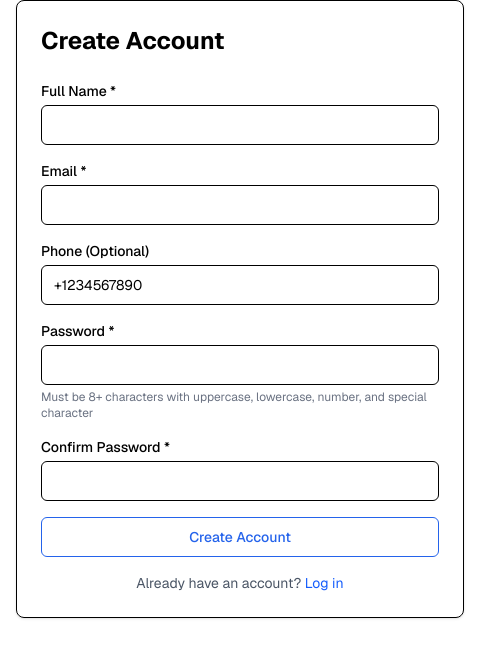
Test: RegisterForm › Form Validation - Required Fields › shows error when password is missing
The width and height of the screenshot is (481, 660).
Type "John Doe" into the field labelled "Full Name *". click: coordinates (240, 125)
box: x1=41 y1=105 x2=439 y2=145
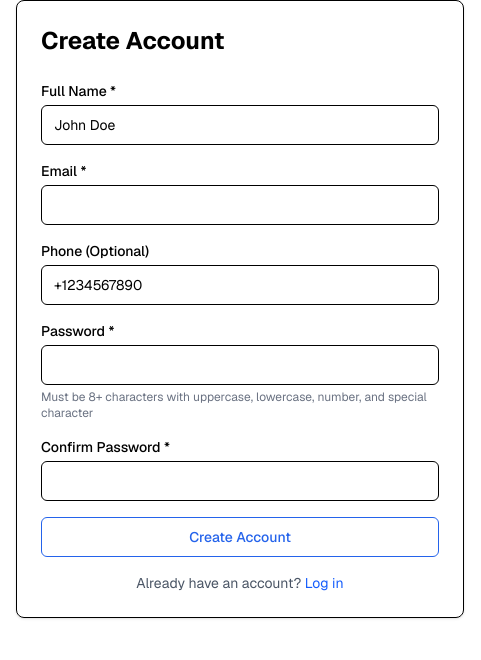
Type "test@example.com" into the field labelled "Email *". click: coordinates (240, 205)
box: x1=41 y1=185 x2=439 y2=225
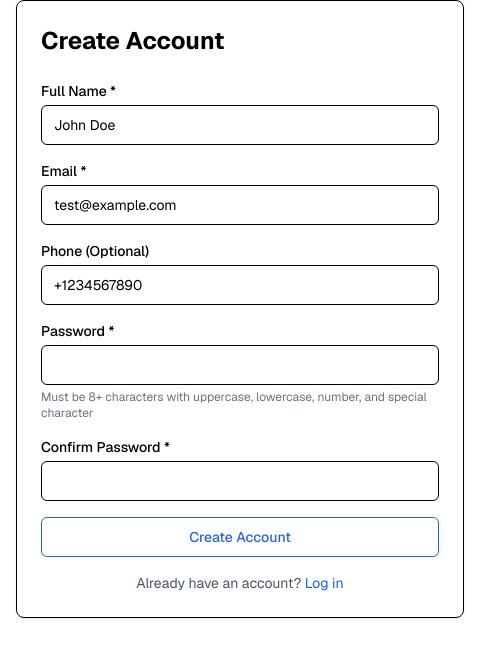
Click the button "Create Account". click: coordinates (240, 537)
box: x1=41 y1=517 x2=439 y2=557
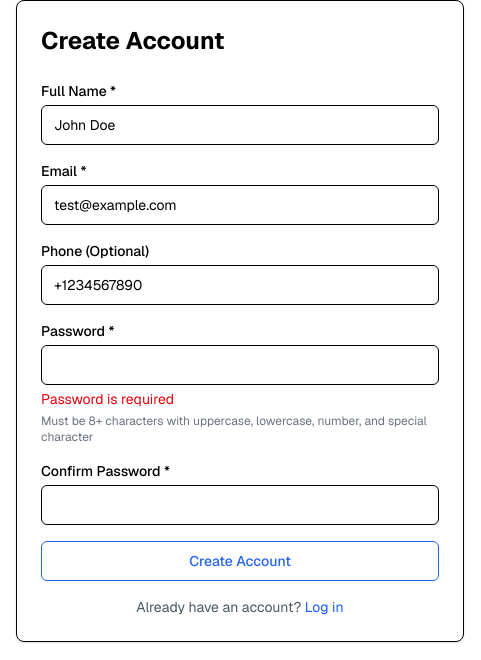
expect the text "Password is required" is shown: met, box x1=41 y1=390 x2=174 y2=408
